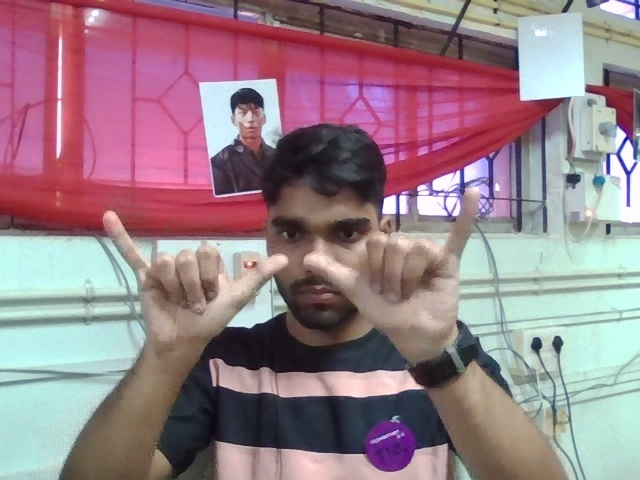play: (96, 182, 511, 360)
